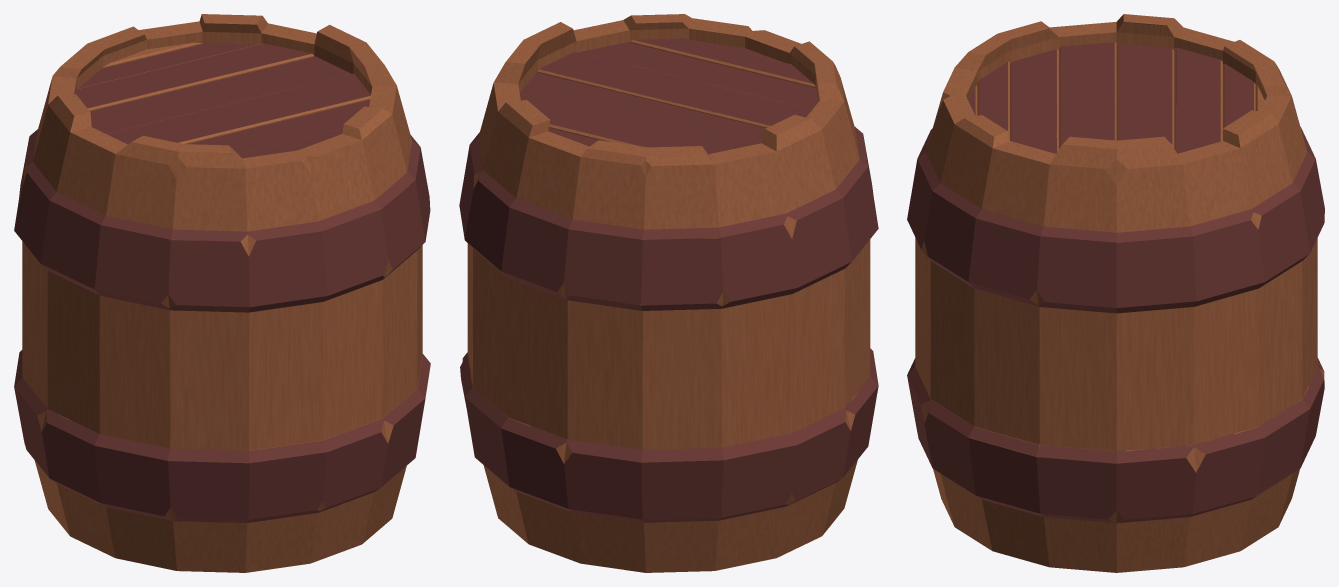
Rendered from WoodenBarrel.fbx.
3 views of the same model, side by side, from view 1: azimuth 30°, elevation 25°; view 2: azimuth 150°, elevation 25°; view 3: azimuth 270°, elevation 25° (orthographic).
Visible parts, largest first — view 1: WoodenBarrel; view 2: WoodenBarrel; view 3: WoodenBarrel.
Boxes of the visible parts, box(x1,y1,x2,y2) form: WoodenBarrel: box(14, 14, 430, 572); WoodenBarrel: box(459, 14, 878, 572); WoodenBarrel: box(907, 14, 1324, 572).
Bounding box in the file's own units: 182 × 201 × 181.
